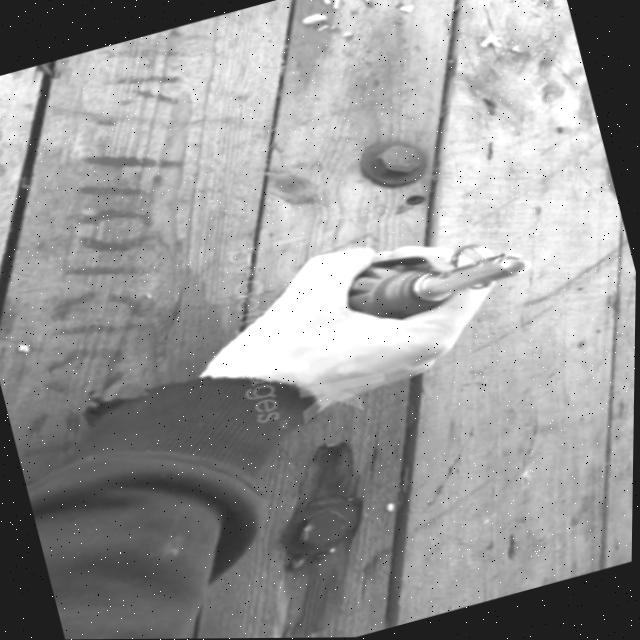grenade: (340, 216, 559, 342)
